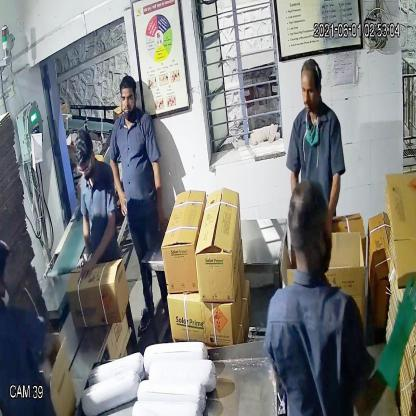goggles: (74, 158, 97, 179)
no_goggles: (298, 81, 324, 103)
